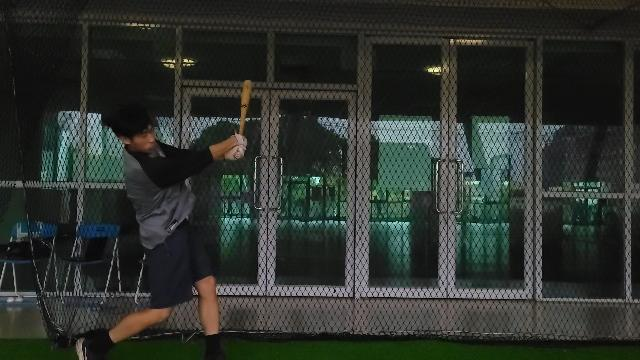bat: (232, 78, 254, 136)
